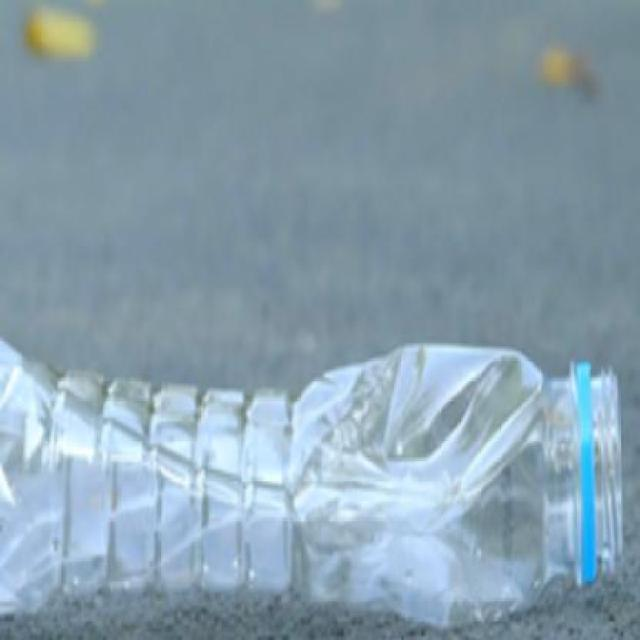bottle: (0, 235, 640, 639)
